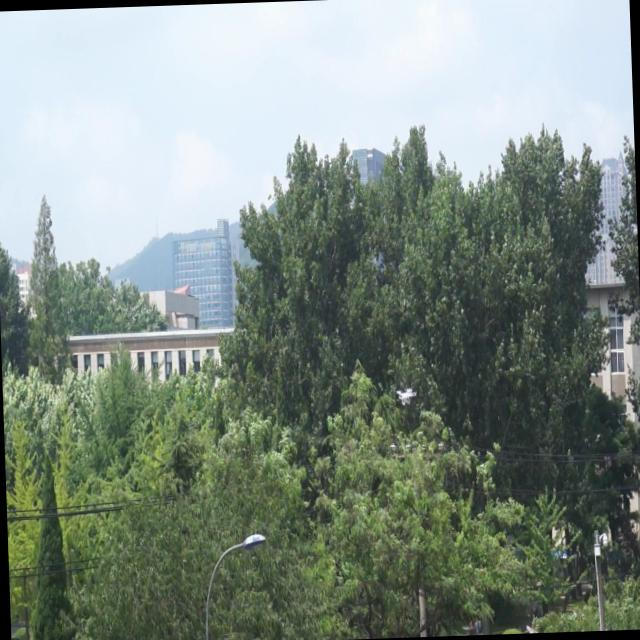drone: (393, 382, 418, 409)
